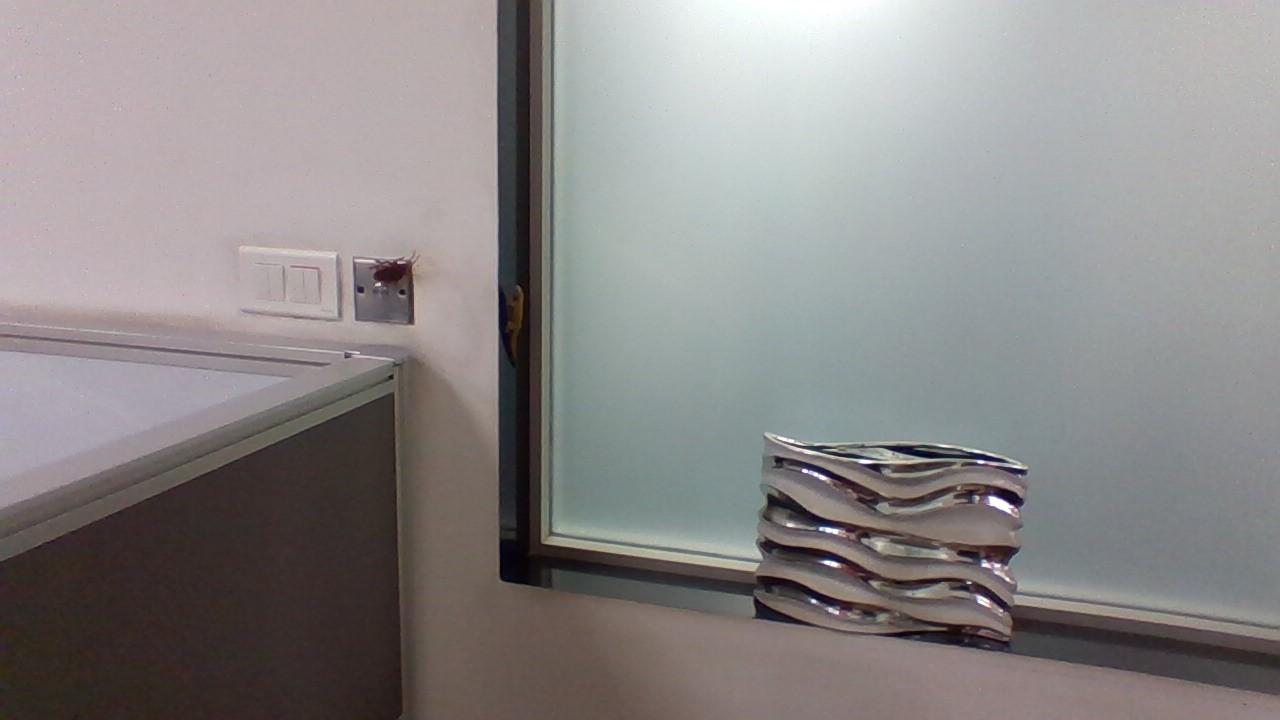cockroach: (367, 246, 421, 296)
lizard: (492, 272, 537, 369)
